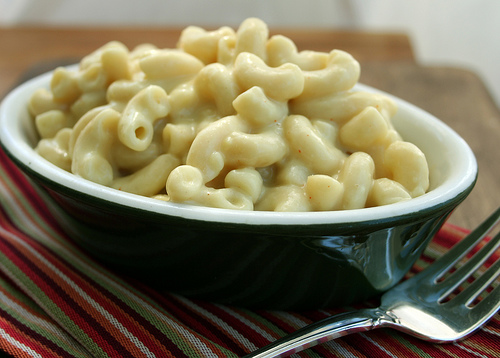macncheese: (13, 18, 426, 214)
